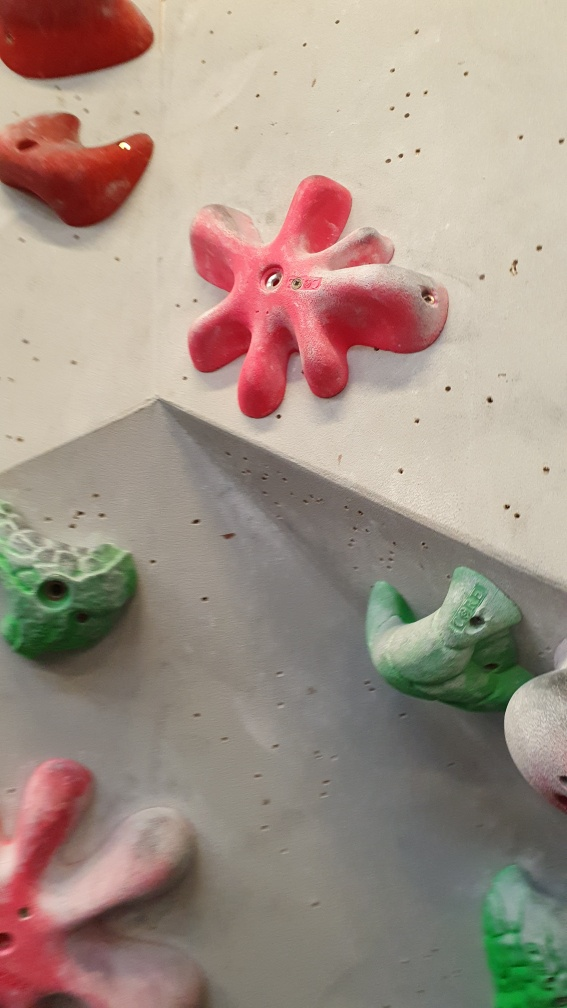Jug: (364, 559, 531, 718), (479, 849, 564, 1007)
Octopus Pinch: (186, 173, 456, 423), (1, 746, 205, 1007)
Sloper: (501, 645, 567, 824)
